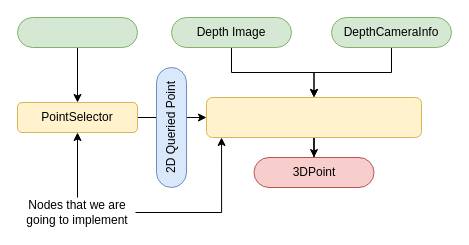
The diagram is 469 pixels wide and 245 high, and some of its shapes have lost their labels. Here are the shapes that lost their labels. From the top down, the centre of each, then its label:
(x=77, y=32): Camera Image
(x=314, y=117): Extract3DFrom2D
